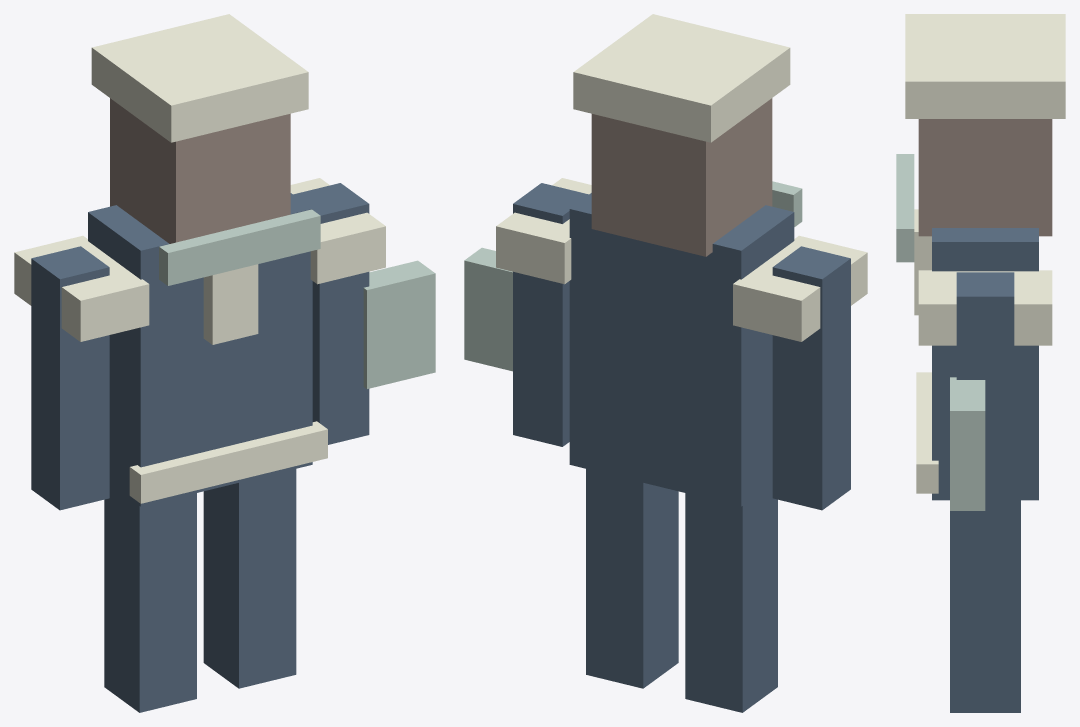
File: 05_makoa_emberkin_captain_under_emergency.glb
3 views of the same model, side by side, from view 1: azimuth 30°, elevation 25°; view 2: azimuth 150°, elevation 25°; view 3: azimuth 270°, elevation 25° (orthographic).
Parts seen in each view (by area): view 1: Makoa Emberkin, Captain under Emergency; view 2: Makoa Emberkin, Captain under Emergency; view 3: Makoa Emberkin, Captain under Emergency.
Part boxes in pixels (box(x1,y1,x2,y2)): Makoa Emberkin, Captain under Emergency: box(14, 14, 435, 712); Makoa Emberkin, Captain under Emergency: box(464, 14, 867, 712); Makoa Emberkin, Captain under Emergency: box(896, 14, 1065, 712).
Size of the model in its own units: 1.02 by 1.62 by 0.3966.
